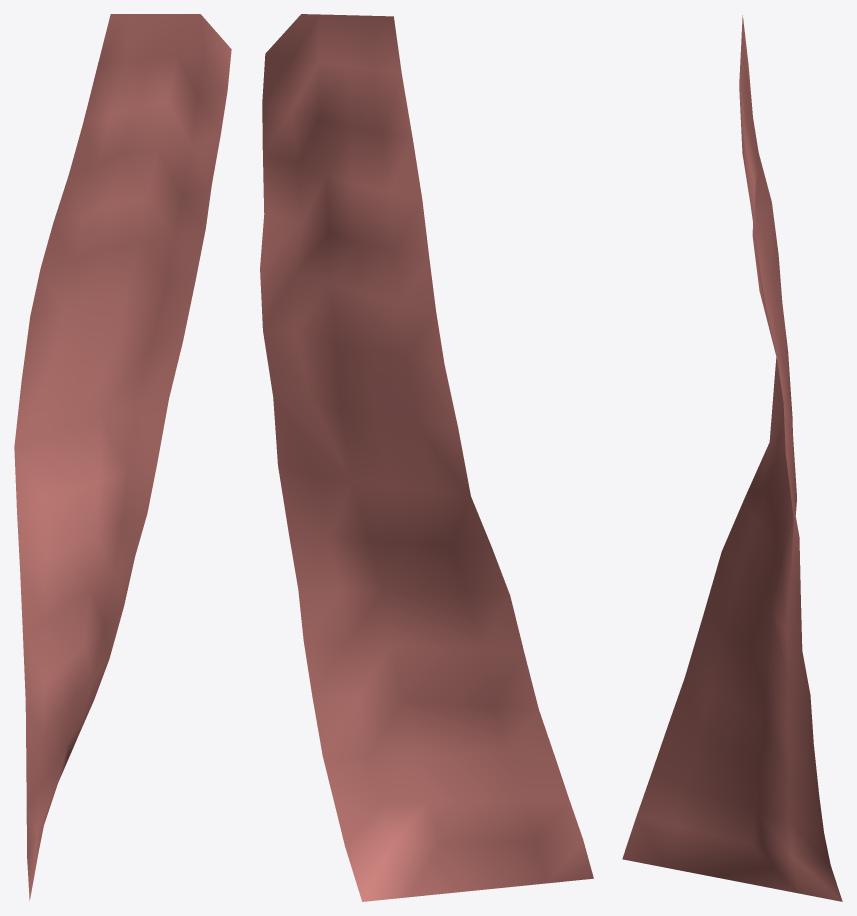
3 views of the same model, side by side, from view 1: azimuth 30°, elevation 25°; view 2: azimuth 150°, elevation 25°; view 3: azimuth 270°, elevation 25° (orthographic). The views are drawn at different scales.
Visible parts, largest first — view 1: ZA_4b77e80f55de8aec; view 2: ZA_4b77e80f55de8aec; view 3: ZA_4b77e80f55de8aec.
Part boxes in pixels (x1,y1,x2,y2): ZA_4b77e80f55de8aec: (14, 14, 231, 900); ZA_4b77e80f55de8aec: (260, 14, 593, 901); ZA_4b77e80f55de8aec: (622, 15, 842, 901).
Size of the model in its own units: 0.0325 by 0.0992 by 0.0216.
